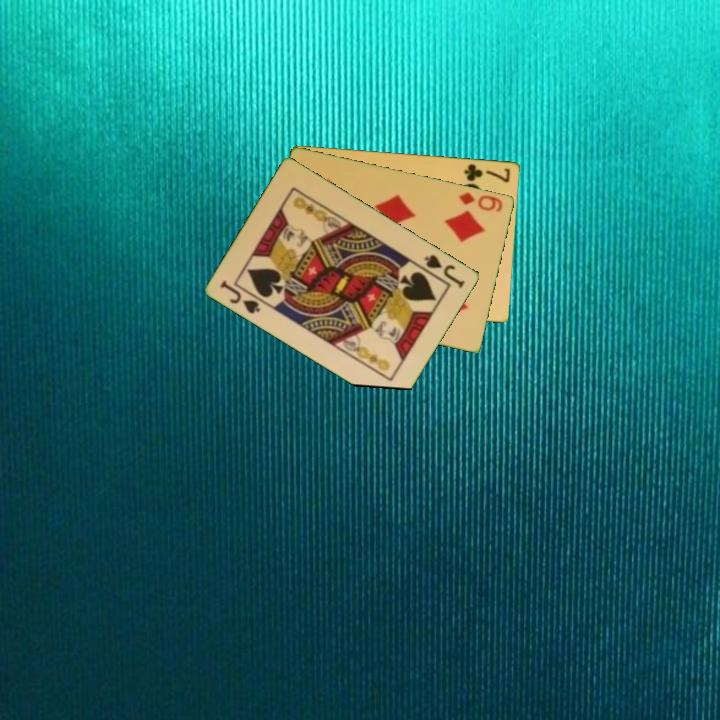6d: (456, 188, 506, 215)
7c: (461, 160, 513, 185)
Js: (421, 251, 468, 291), (217, 277, 263, 317)
